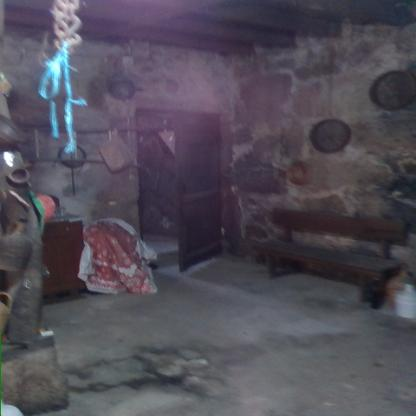semi: (123, 100, 242, 274)
